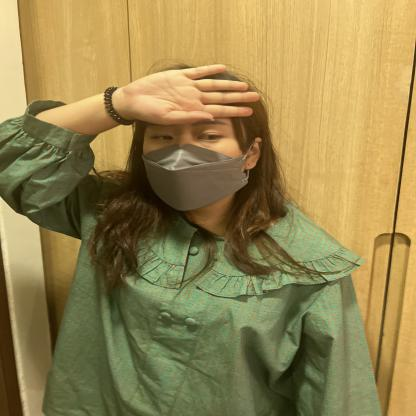Sick: (54, 44, 278, 130)
